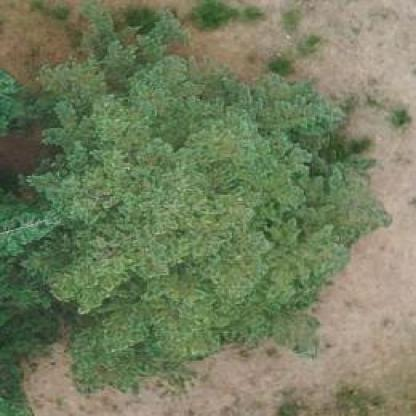Coniferous Tree: (15, 35, 358, 342)
